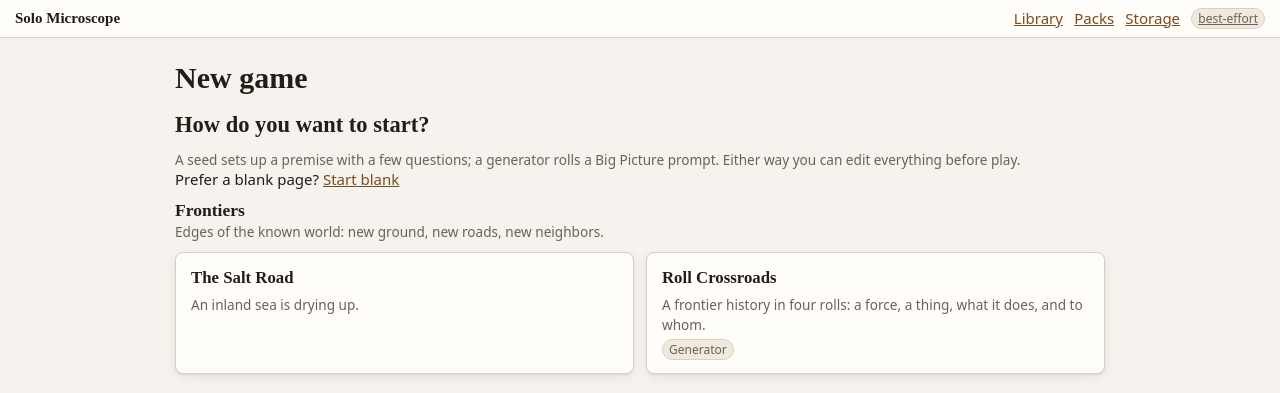
Test: New game: choose a start first › a generator suggests its name and setup opens on its roll
This screenshot has width=1280, height=393.
Click the button "Roll Crossroads": (876, 313) [646, 252, 1105, 374]
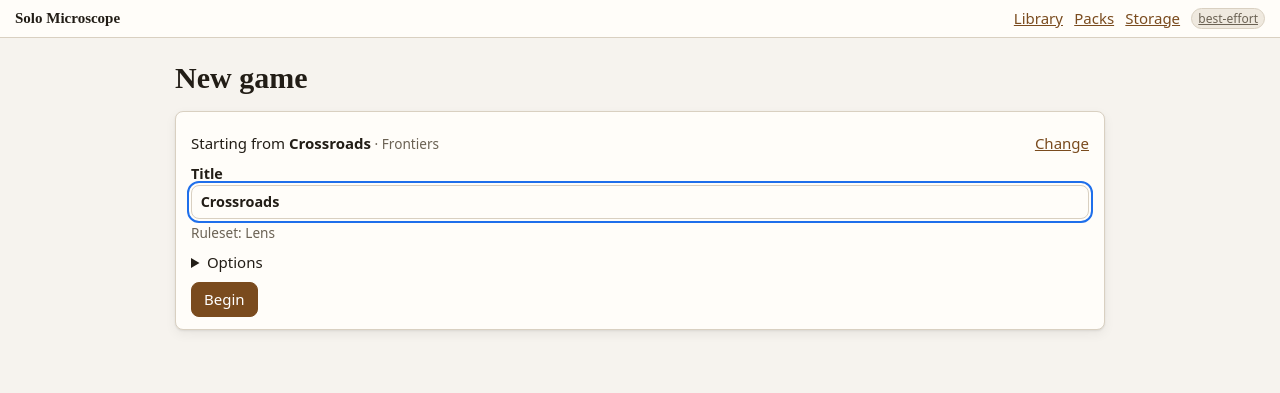
Now the field labelled "Title" holds "Crossroads", box [191, 185, 1089, 219]
Click the button "Begin": (224, 299) [191, 282, 258, 317]
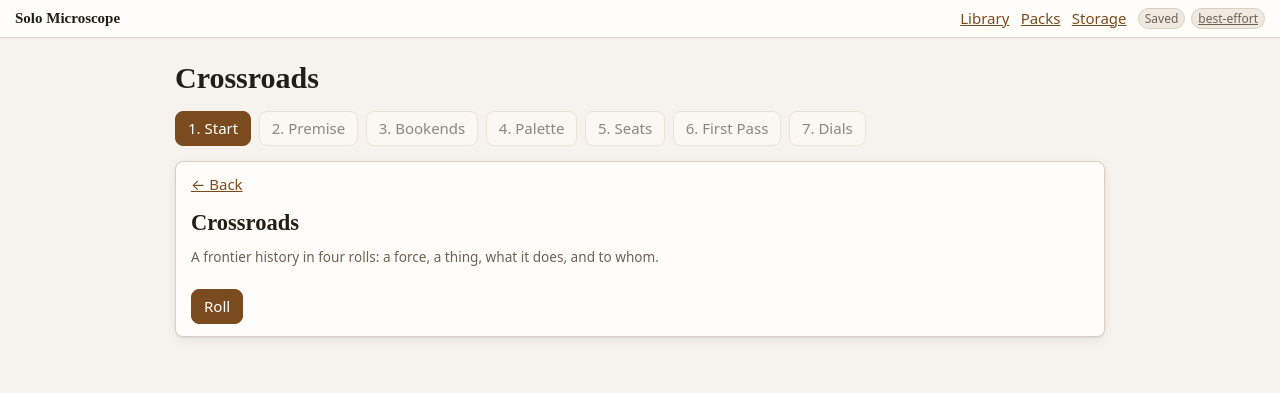
Now the list named "Setup steps" is shown, box [175, 111, 866, 146]
Now the element named "Generator: Crossroads" is shown, box [191, 174, 659, 324]
